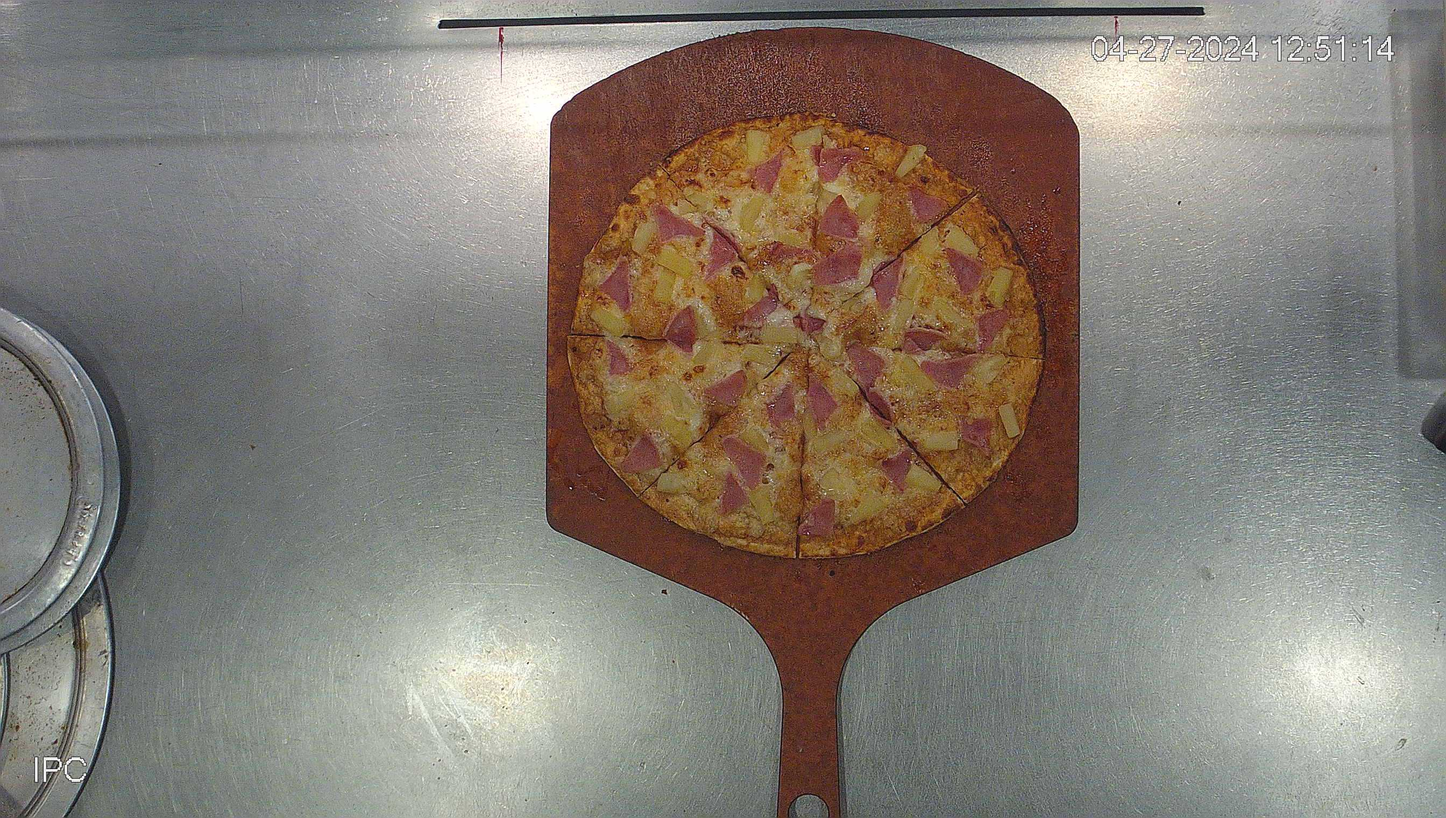manager_choice: (565, 109, 1046, 559)
